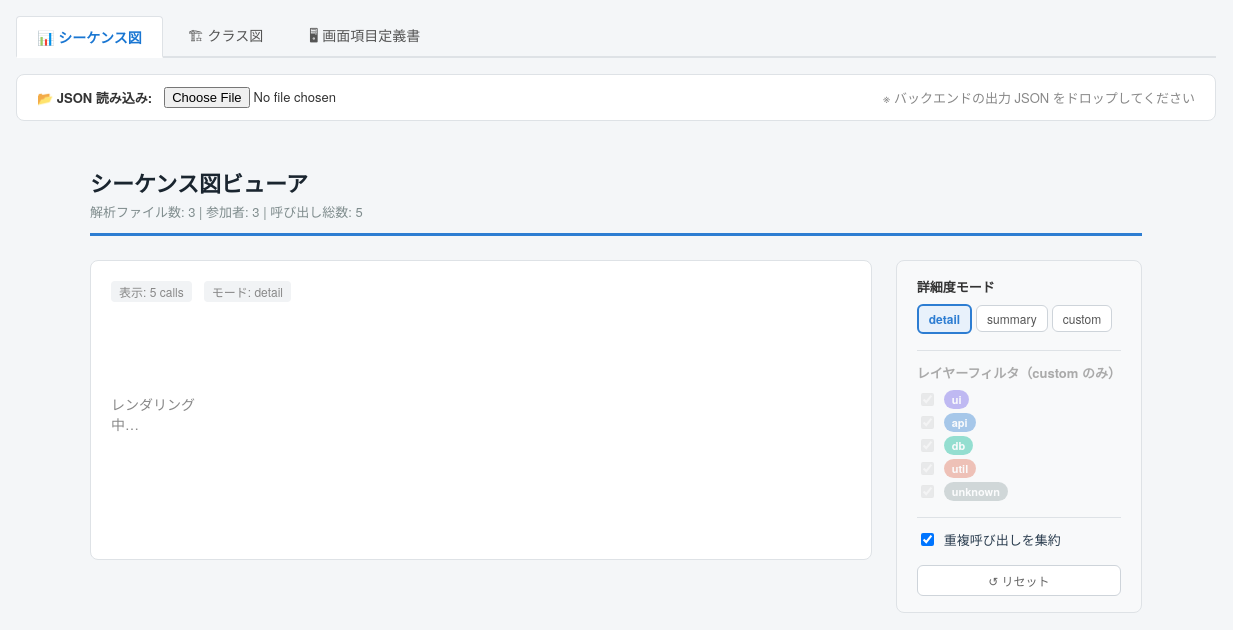
App – ビューの切り替え › シーケンス図タブに戻れる
The image size is (1233, 630).
// クラス図に切り替え
Click the button "🏗 クラス図". click: (226, 37)
box: [167,16,284,58]
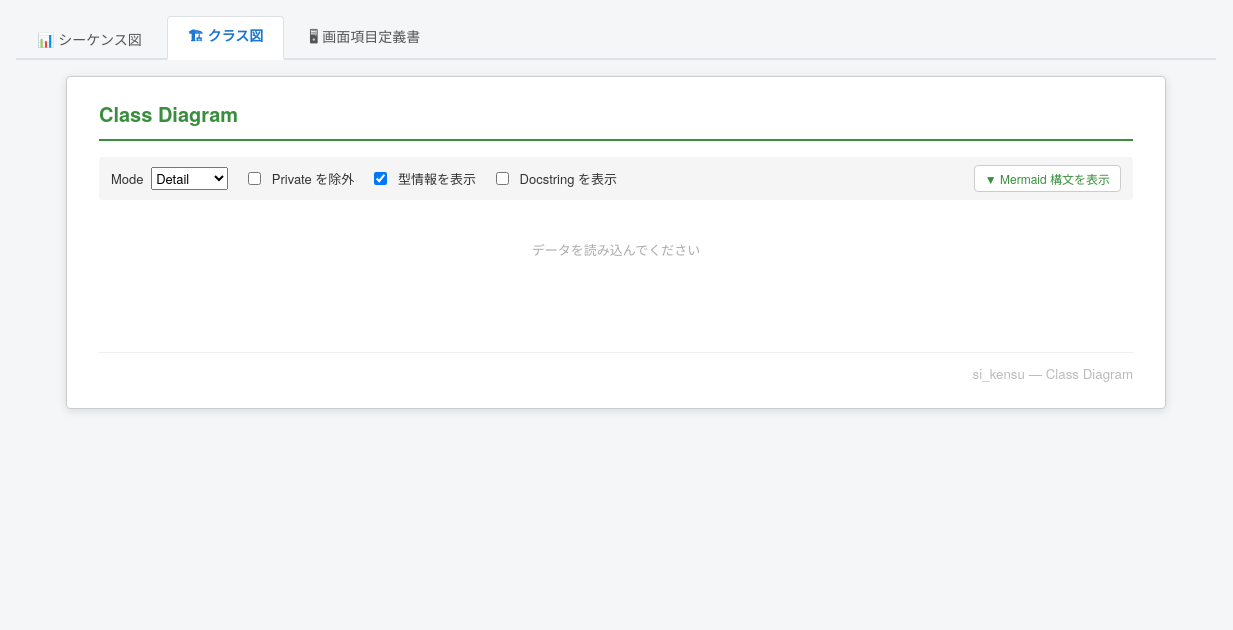
// シーケンス図に戻る
Click the button "📊 シーケンス図". click: (89, 38)
box: [16,16,163,60]
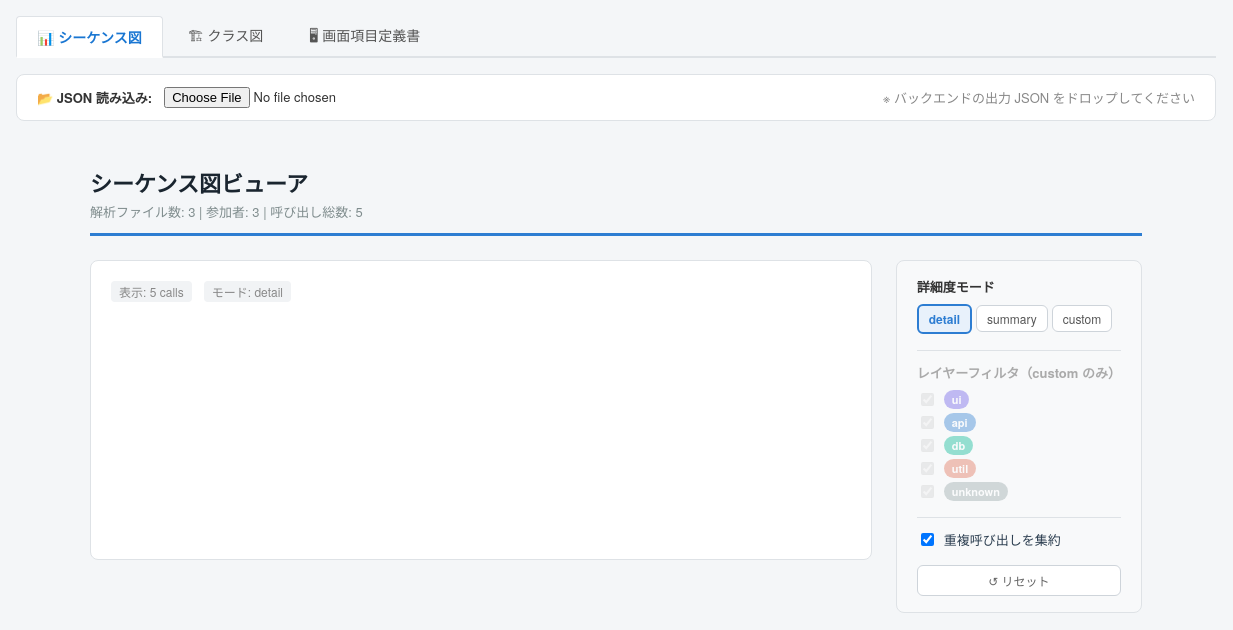
Check: the heading "Class Diagram" is gone
